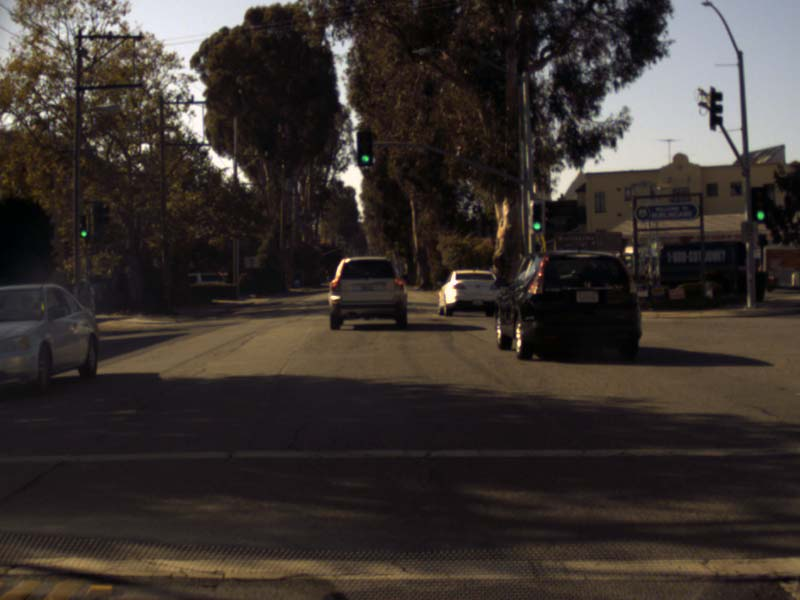Green: (357, 130, 372, 165), (752, 189, 767, 222), (532, 203, 541, 232), (79, 215, 87, 236)
